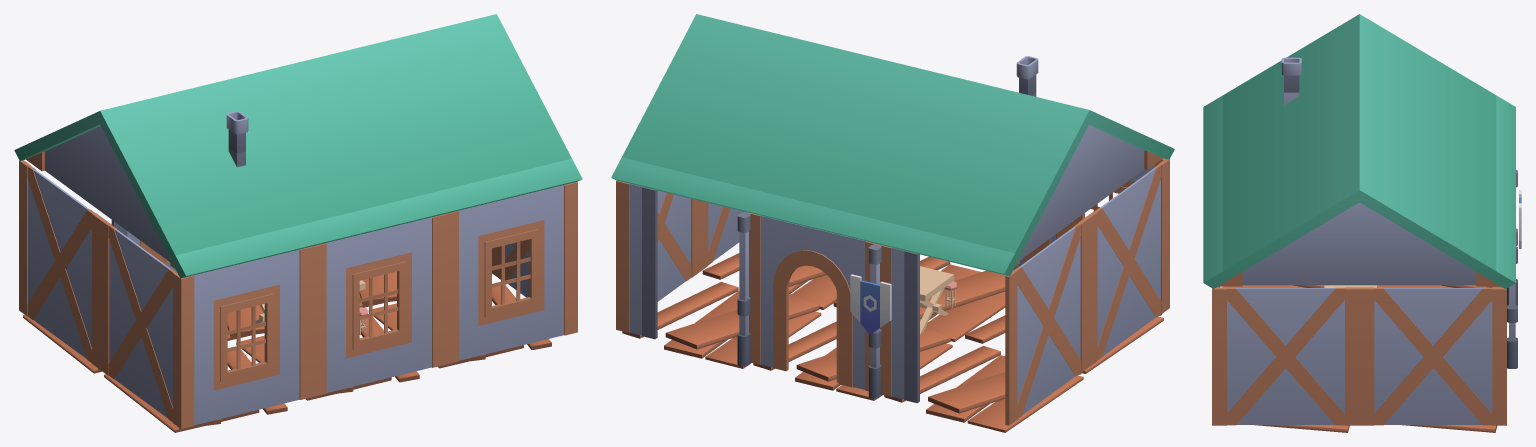
File: london_guild_1.glb
3 views of the same model, side by side, from view 1: azimuth 30°, elevation 25°; view 2: azimuth 150°, elevation 25°; view 3: azimuth 270°, elevation 25° (orthographic). The views are drawn at different scales.
Visible parts, largest first — view 1: roof-gable (×3), wall-window-shutters (×3), wall-detail-cross (×3), platform-planks (×6), chimney-top; view 2: roof-gable (×3), wall-detail-cross (×4), platform-planks (×6), wall-door, wall-arch (×2), pillar-stone (×2), Guild_entrance_emblem_-2.5, tableCross(Clone), chimney-top, wall-window-shutters; view 3: roof-gable (×3), wall-detail-cross (×2), platform-planks (×3), pillar-stone, wall-window-shutters, wall-arch, chimney-top.
Part boxes in pixels (box(x1,y1,x2,y2)): roof-gable (×3): box(14, 14, 582, 278); wall-window-shutters (×3): box(179, 182, 577, 428); wall-detail-cross (×3): box(19, 160, 577, 427); platform-planks (×6): box(23, 271, 551, 432); chimney-top: box(226, 111, 248, 153); roof-gable (×3): box(611, 14, 1174, 276); wall-detail-cross (×4): box(616, 159, 1169, 425); platform-planks (×6): box(622, 253, 1163, 432); wall-door: box(747, 212, 878, 391); wall-arch (×2): box(616, 180, 919, 403); pillar-stone (×2): box(737, 212, 881, 398); Guild_entrance_emblem_-2.5: box(850, 274, 891, 334); tableCross(Clone): box(920, 266, 954, 334); chimney-top: box(1016, 56, 1038, 95); wall-window-shutters: box(1036, 158, 1169, 307); roof-gable (×3): box(1203, 14, 1515, 288); wall-detail-cross (×2): box(1212, 287, 1506, 425); platform-planks (×3): box(1254, 285, 1496, 432); pillar-stone: box(1507, 228, 1517, 368); wall-window-shutters: box(1212, 286, 1219, 425); wall-arch: box(1502, 288, 1506, 425); chimney-top: box(1281, 57, 1301, 92).
Bounding box in the file's own units: 12 × 7.73 × 9.18.
Materials: 13 (10 with a texture image).
